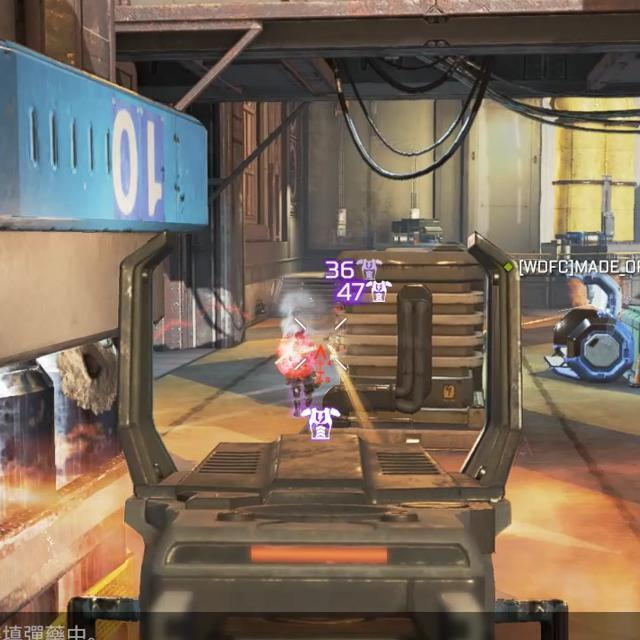avatar: (283, 326, 323, 418)
object: (274, 335, 316, 379)
